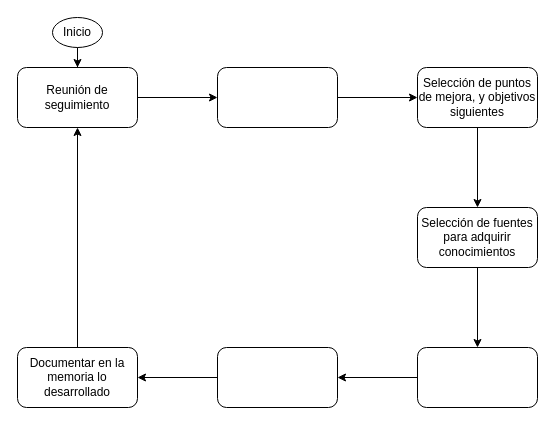
This 555x425 diagram has some shape labels left out. The shapes that lost their labels are listed below. From the top down, each one's centre as x and y in pixels, then its label:
At point 277,97: "Análisis del progreso durante la iteración".
At point 277,377: "Desarrollo de los objetivos y mejoras".
At point 477,377: "Trabajo de documentación e investigación".
